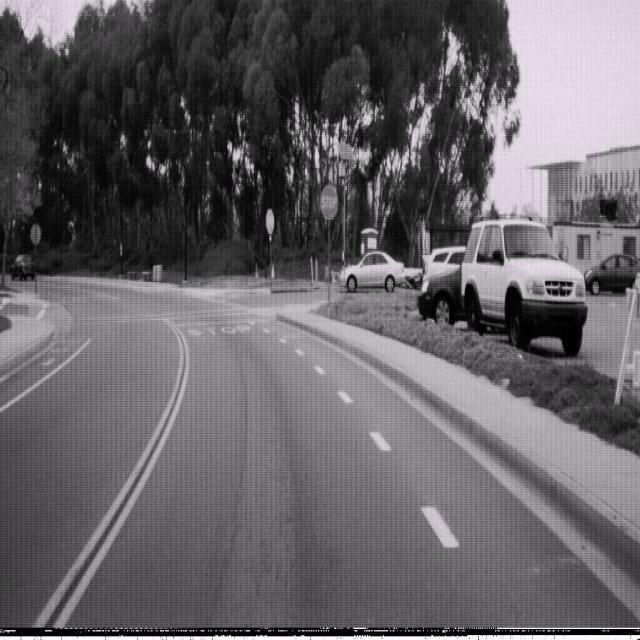stop_sign: (320, 182, 338, 220), (265, 207, 275, 238)
